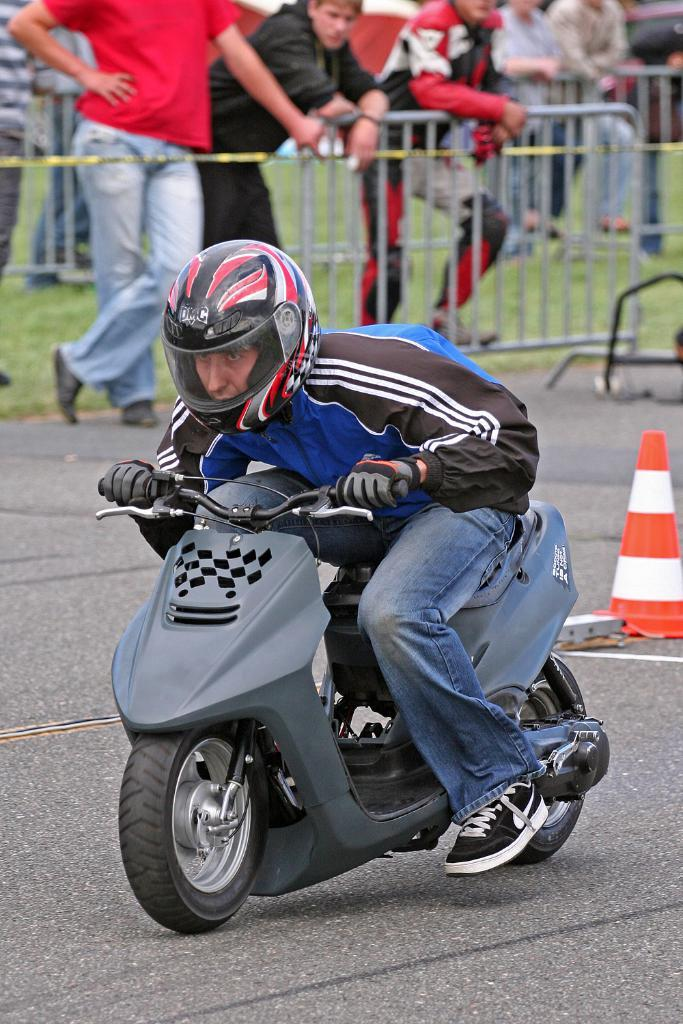helmet: (161, 239, 322, 436)
